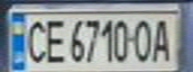0: (112, 16, 133, 63)
1: (96, 16, 115, 62)
6: (66, 16, 87, 63)
7: (81, 16, 100, 63)
A: (148, 16, 178, 64)
C: (21, 16, 51, 65)
E: (39, 16, 69, 65)
O: (133, 16, 157, 63)
